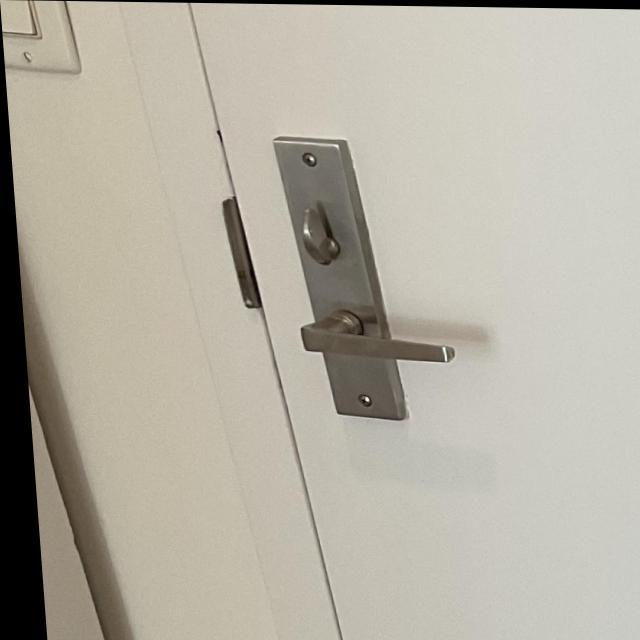door_handle: (275, 299, 476, 374)
